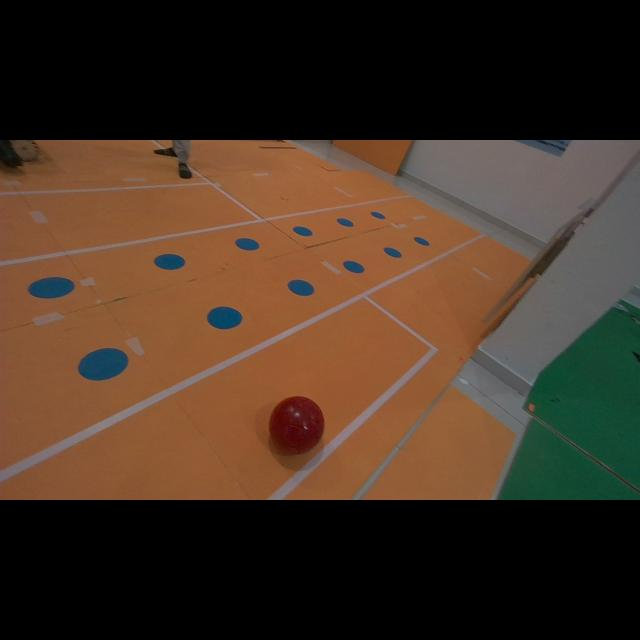R: (269, 396, 325, 454)
